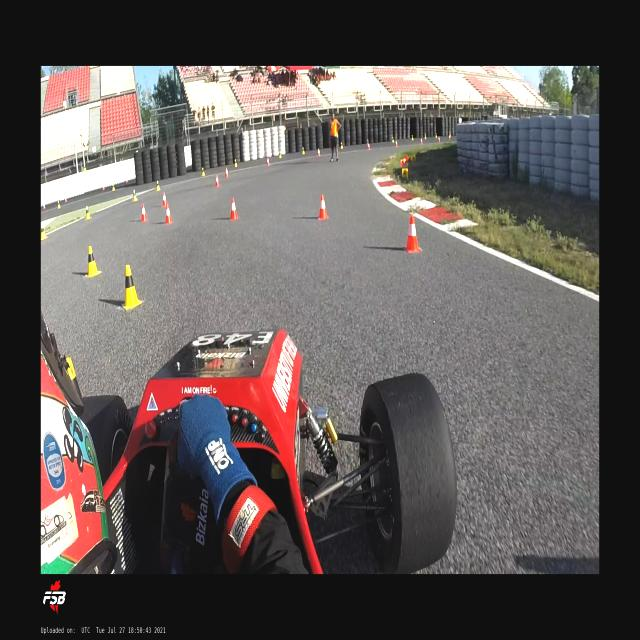orange_cone: (404, 216, 422, 253), (318, 194, 328, 220), (229, 198, 239, 220), (165, 204, 172, 224), (142, 204, 148, 222), (224, 166, 230, 178), (215, 174, 220, 187), (162, 192, 166, 206), (400, 158, 406, 166), (266, 156, 270, 166), (317, 147, 321, 157), (366, 142, 371, 150), (404, 154, 408, 162), (102, 183, 106, 191), (394, 139, 398, 147), (64, 195, 67, 203), (438, 136, 442, 142), (125, 176, 128, 183), (420, 136, 422, 144), (43, 202, 45, 209)
yellow_cone: (122, 264, 142, 312), (85, 246, 102, 278), (41, 223, 48, 240), (85, 206, 91, 220), (132, 190, 138, 202), (155, 180, 161, 192), (402, 168, 408, 180), (201, 167, 205, 177), (234, 158, 238, 168), (57, 199, 61, 209), (278, 151, 282, 159), (302, 146, 306, 154), (391, 136, 395, 143), (341, 141, 344, 149), (112, 184, 115, 192), (84, 164, 86, 172), (412, 135, 414, 141), (424, 133, 426, 139), (435, 132, 437, 138)
